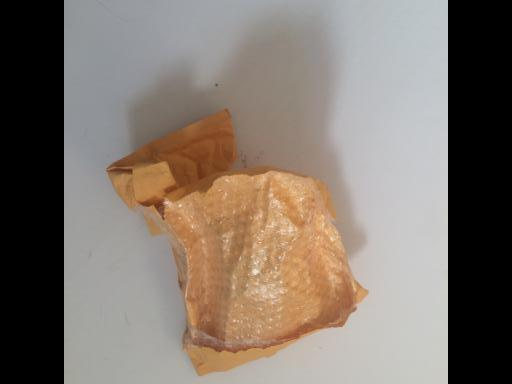trash: (107, 109, 371, 378)
